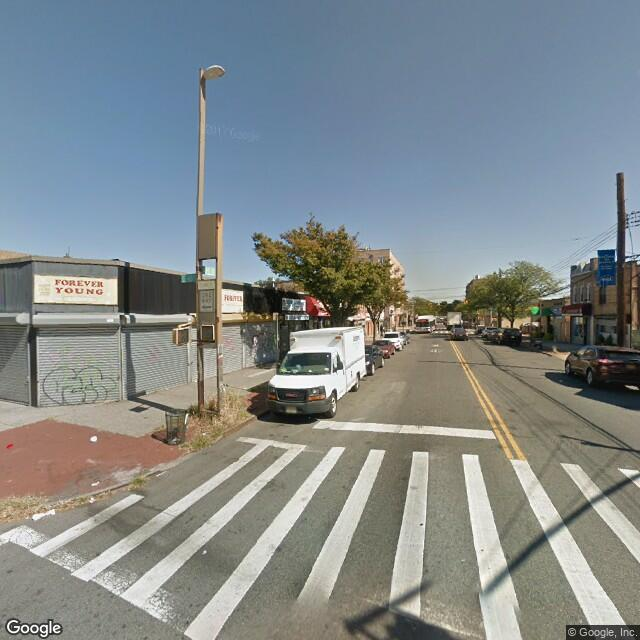litter: (22, 506, 79, 526), (89, 435, 108, 446)
